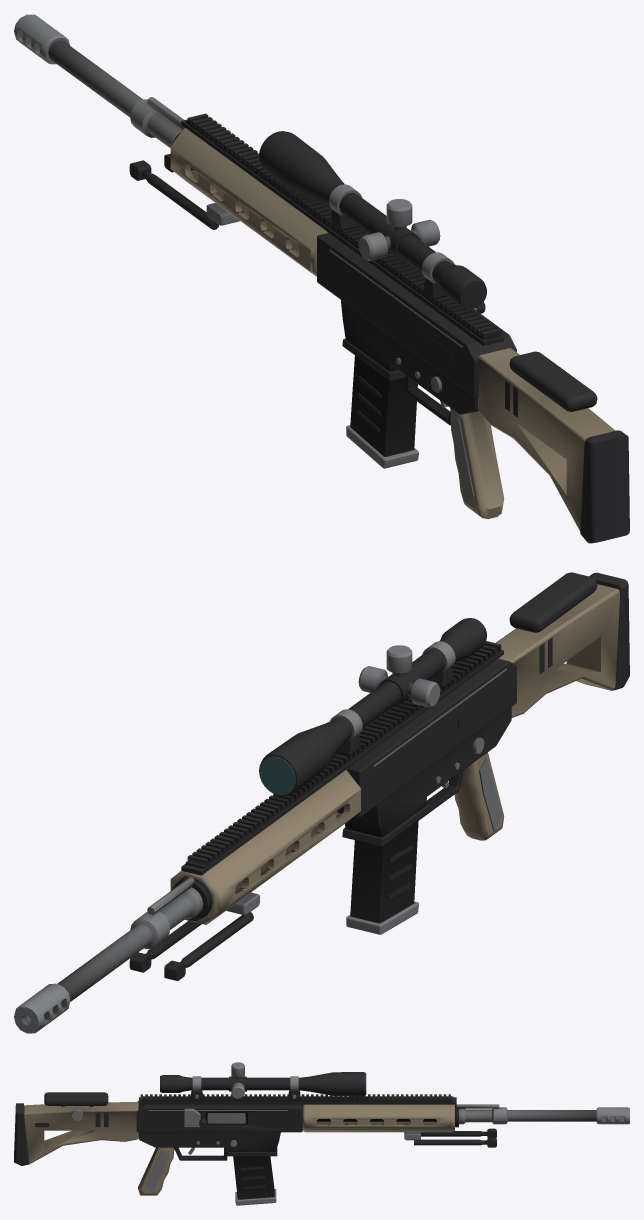
Rendered from talon_dmr.glb.
3 views of the same model, one above another, from view 1: azimuth 30°, elevation 25°; view 2: azimuth 150°, elevation 25°; view 3: azimuth 270°, elevation 25° (orthographic). The views are drawn at different scales.
Visible parts, largest first — view 1: Receiver, Stock, Optic, Magazine, Barrel, Bipod, MuzzleBrake; view 2: Receiver, Stock, Optic, Magazine, Barrel, Bipod, MuzzleBrake, OpticGlass; view 3: Receiver, Stock, Optic, Barrel, Magazine, Bipod, MuzzleBrake, Bolt.
Boxes of the visible parts, x1,y1,x2,y2 form: Receiver: (170,113,516,518); Stock: (478,348,629,543); Optic: (259,131,486,308); Magazine: (346,355,418,468); Barrel: (48,40,195,170); Bipod: (129,153,239,229); MuzzleBrake: (14,14,69,64); Receiver: (170,641,516,924); Stock: (495,572,629,717); Optic: (259,618,486,795); Magazine: (346,820,418,934); Barrel: (57,877,212,1001); Bipod: (129,892,259,980); MuzzleBrake: (14,983,70,1033); OpticGlass: (259,756,295,795); Receiver: (136,1094,458,1195); Stock: (14,1092,138,1165); Optic: (160,1062,365,1098); Barrel: (456,1104,596,1124); Magazine: (233,1156,276,1205); Bipod: (404,1128,496,1147); MuzzleBrake: (596,1107,629,1124); Bolt: (207,1113,245,1123).
Bounding box in the file's own units: 0.109 × 0.3186 × 1.3.
